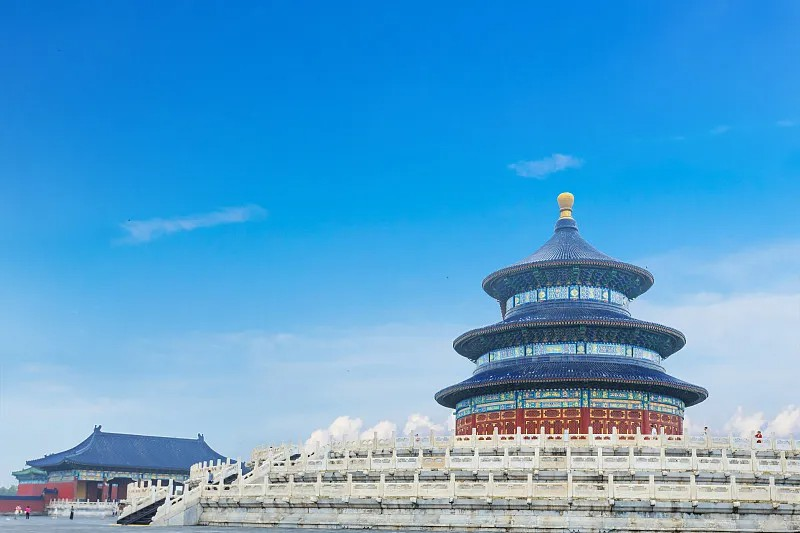Heaven: (434, 190, 709, 446)
